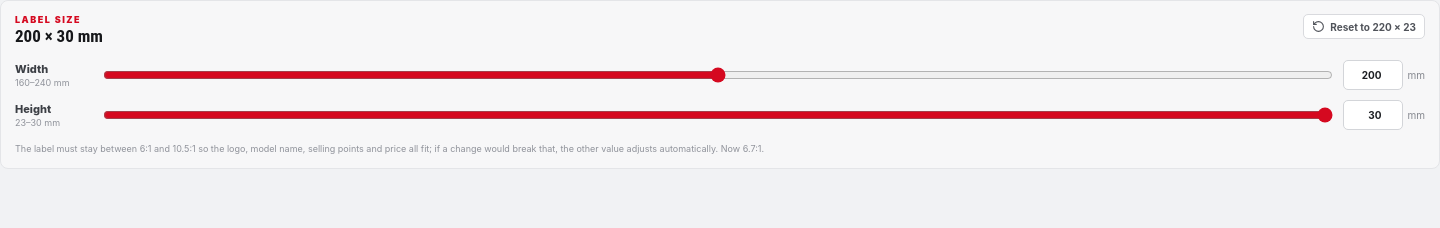
it: label size controls › waits for Enter or blur before a typed number moves the other value, so typing does not jump around
The image size is (1440, 228).
Replace the text in the number field named "Width in millimetres" with "170" at (1373, 75), box [1343,60,1404,90]
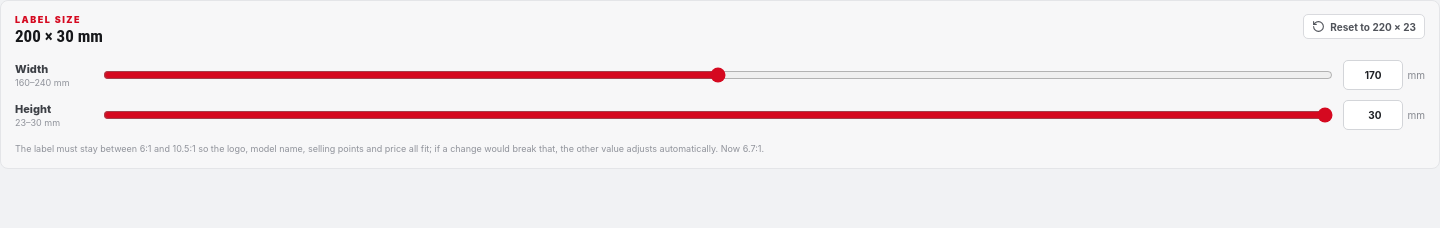
Check: the number field named "Height in millimetres" holds "30", box [1343,100,1404,130]
Replace the text in the number field named "Width in millimetres" with "165" at (1373, 75), box [1343,60,1404,90]
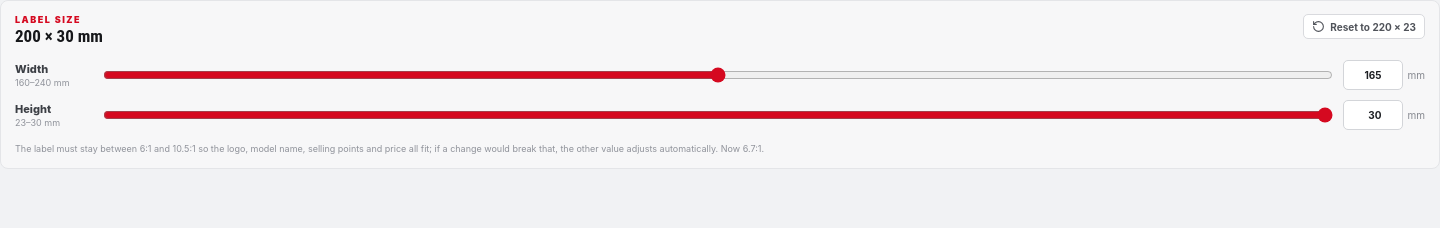
Check: the number field named "Height in millimetres" holds "30", box [1343,100,1404,130]
Leave the number field named "Width in millimetres", box [1343,60,1404,90]
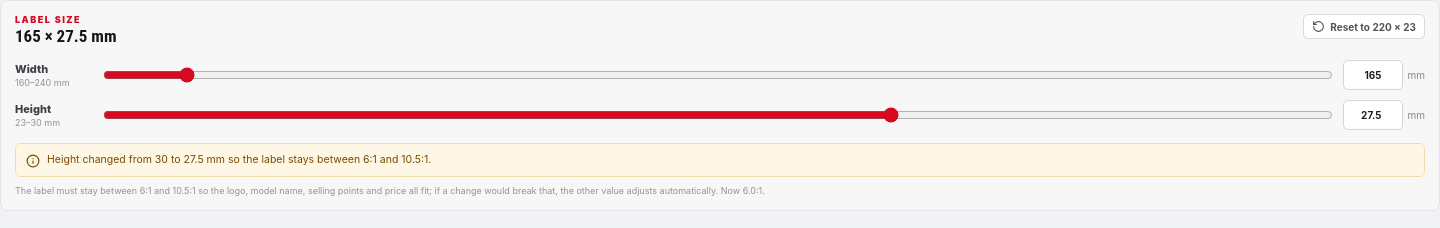
Check: the number field named "Height in millimetres" holds "27.5", box [1343,100,1404,130]
Check: the message shows "Height changed from 30 to 27.5 mm", box [47,153,431,166]
